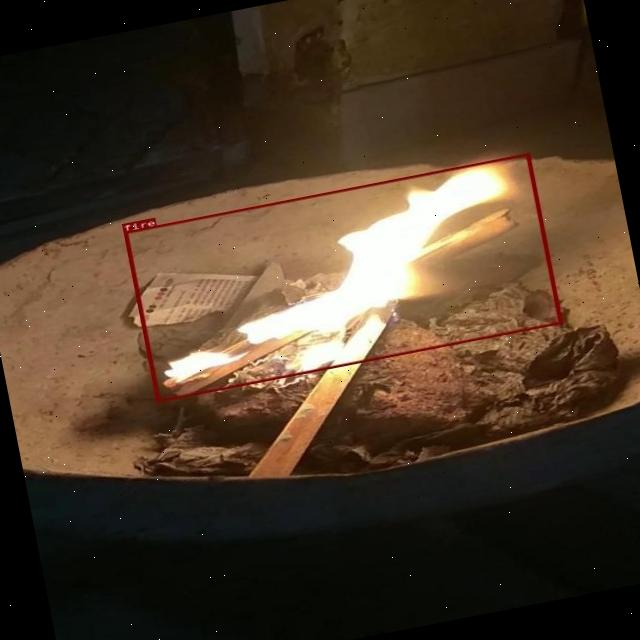fire: (123, 153, 562, 402)
